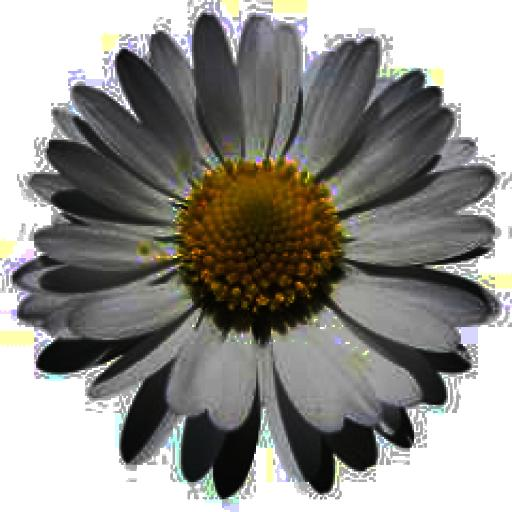daisy: (34, 17, 499, 471)
